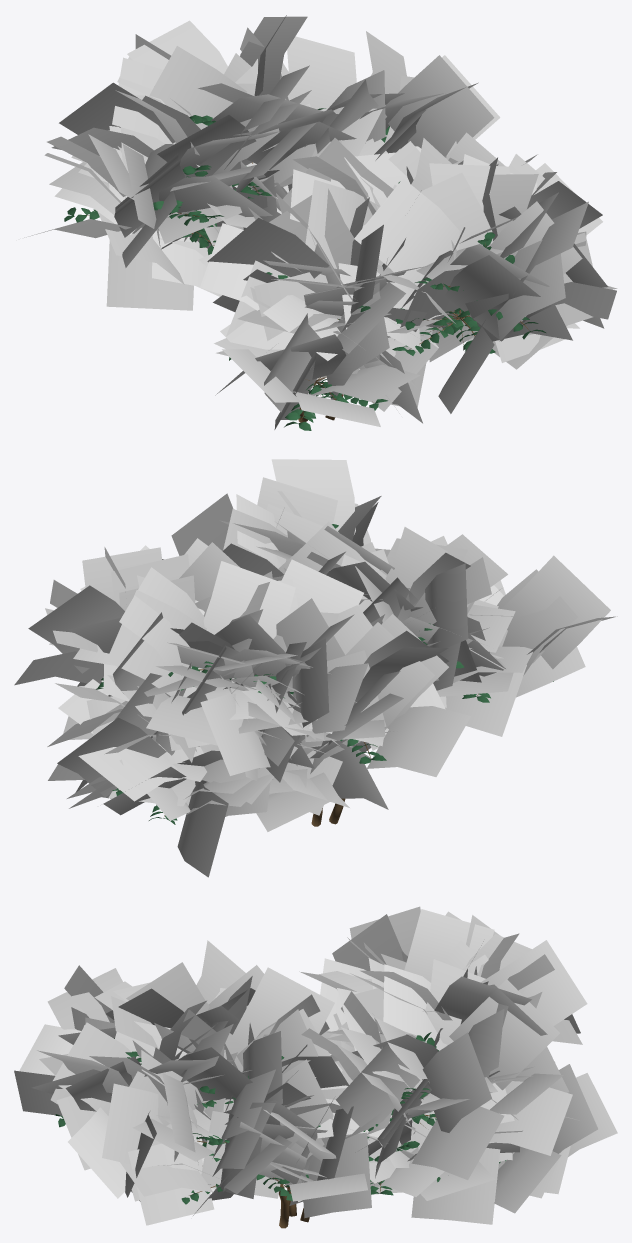
Rendered from Myrte_Etale_LOD0.fbx.
The picture shows the model from 3 angles, top to bottom: view 1: azimuth 30°, elevation 25°; view 2: azimuth 150°, elevation 25°; view 3: azimuth 270°, elevation 25°; orthographic projection. The views are drawn at different scales.
Parts seen in each view (by area): view 1: Myrte_Etale; view 2: Myrte_Etale; view 3: Myrte_Etale.
Part boxes in pixels (box(x1,y1,x2,y2)): Myrte_Etale: box(24, 15, 617, 430); Myrte_Etale: box(14, 459, 617, 877); Myrte_Etale: box(14, 906, 617, 1228).
Bounding box in the file's own units: 297 × 190 × 365.
